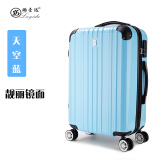suitcase: (64, 21, 152, 152)
